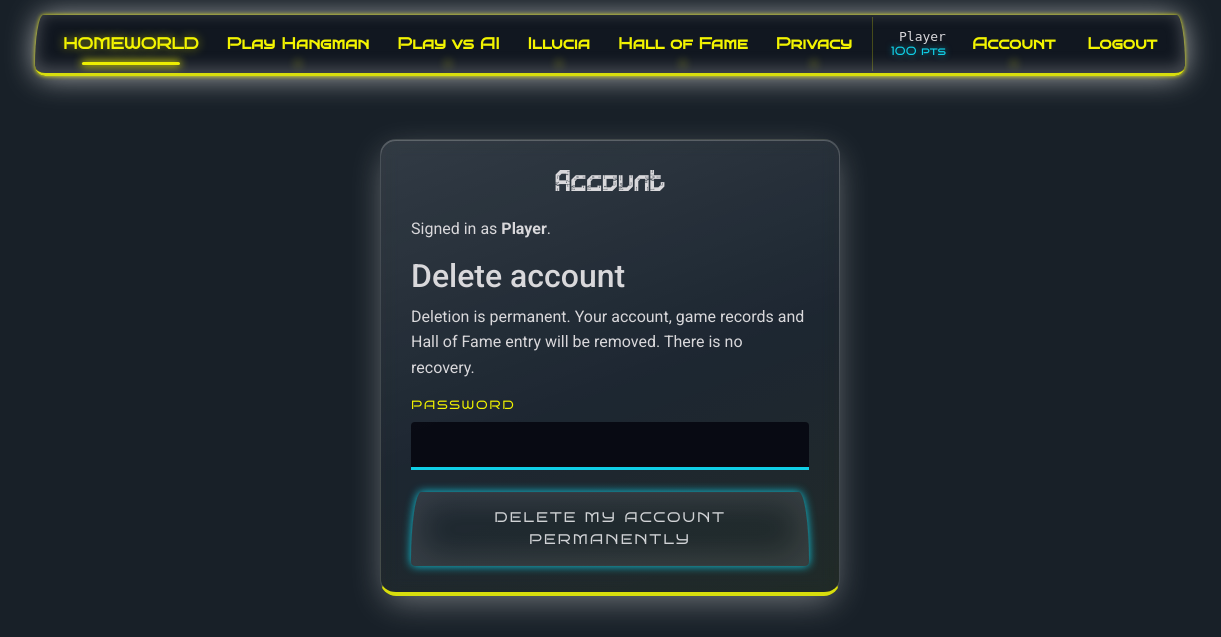
it: clears an expired session while retaining the error explanation
The width and height of the screenshot is (1221, 637).
Type "A re-entered password" into the password field labelled "Password".
click(610, 446); type("A re-entered password")  # box [411,422,809,470]
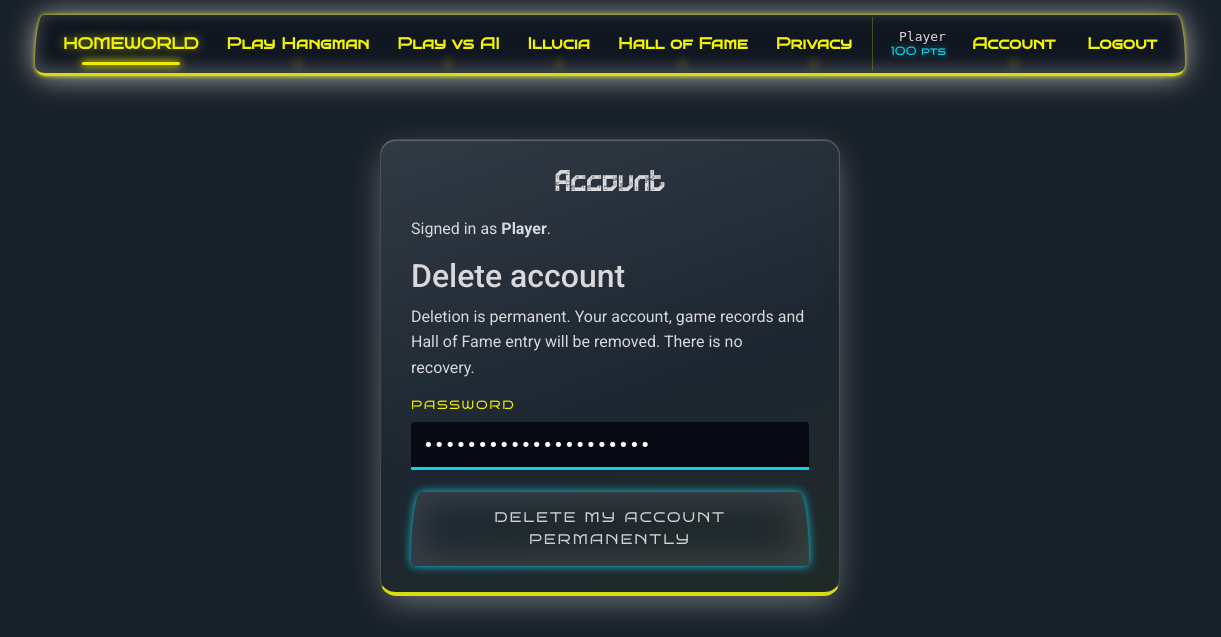
Submit the form named "Delete my account permanently", box [411,216,809,566]
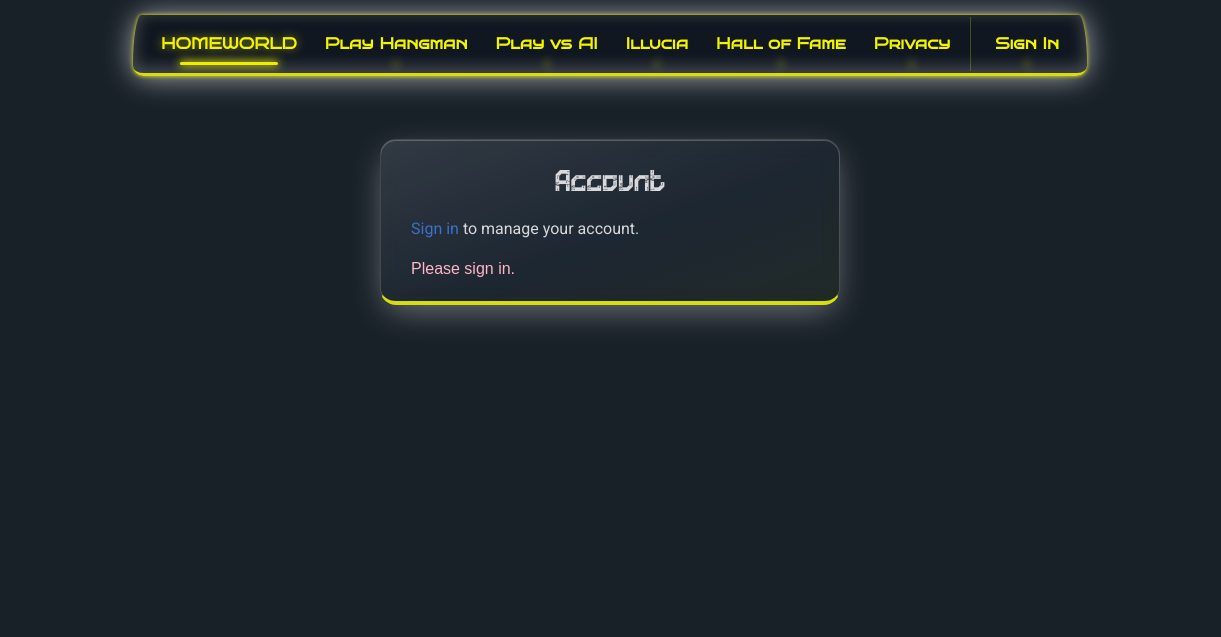
Check: the message reads "Please sign in.", box [411,260,515,277]
Check: the label labelled "Password" is gone
